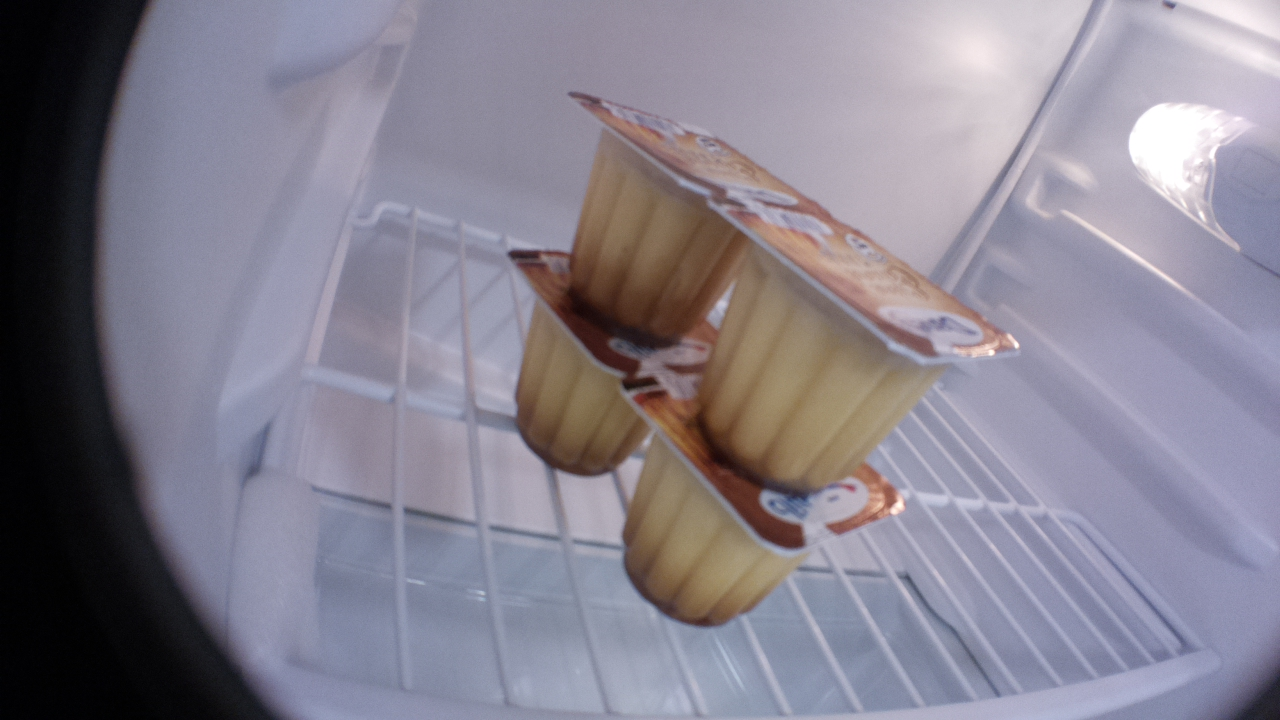caramel: (699, 197, 1024, 495), (617, 378, 906, 625), (567, 90, 774, 346), (504, 245, 695, 476)
